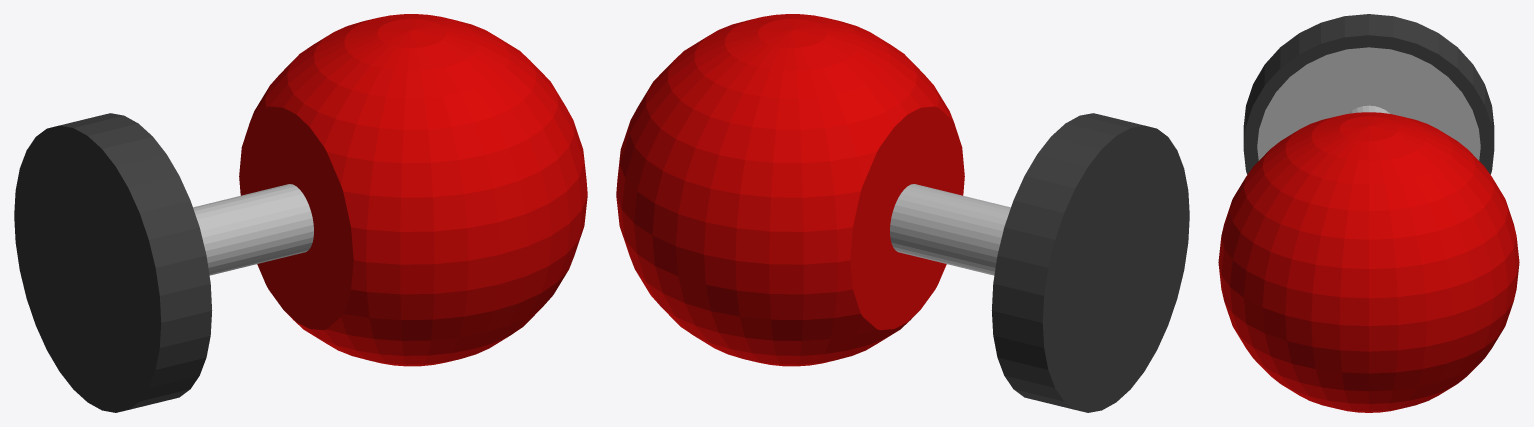
File: Lever.fbx
The picture shows the model from 3 angles, left to right: view 1: azimuth 30°, elevation 25°; view 2: azimuth 150°, elevation 25°; view 3: azimuth 270°, elevation 25°; orthographic projection. The views are drawn at different scales.
Parts seen in each view (by area): view 1: Lever; view 2: Lever; view 3: Lever.
Boxes of the visible parts, x1,y1,x2,y2 form: Lever: [14, 14, 587, 412]; Lever: [616, 14, 1189, 412]; Lever: [1218, 14, 1519, 412].
Size of the model in its own units: 0.9361 by 0.6 by 0.6.
